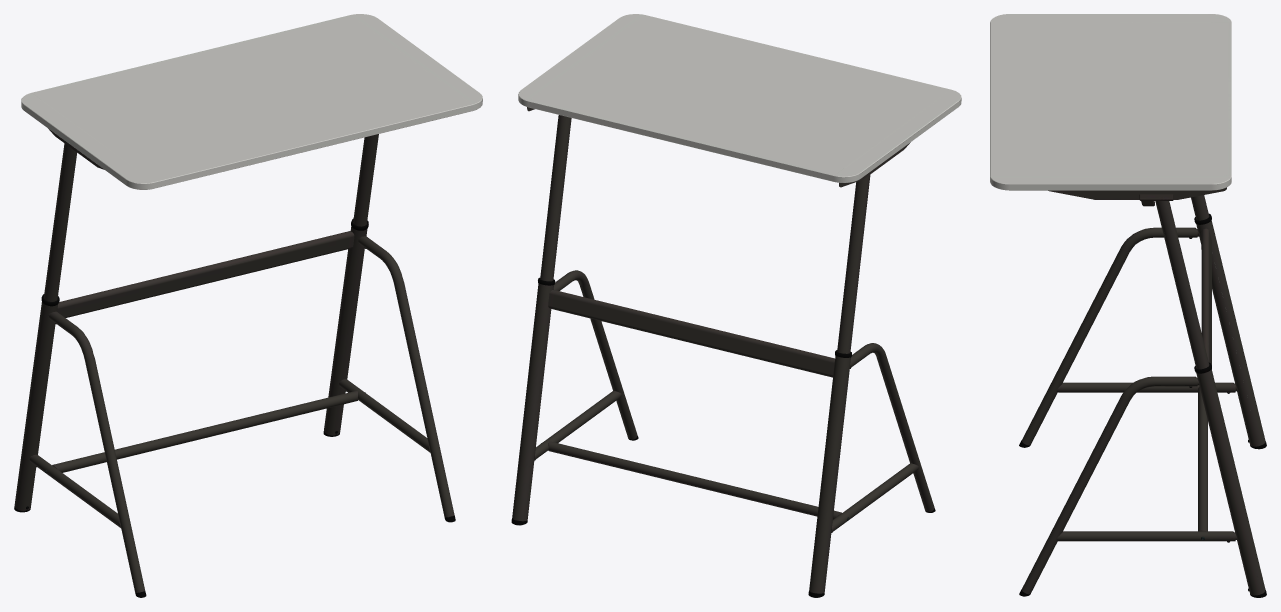
The model's file is GLADHÖJDEN desk.glb.
3 renders of one model, left to right at view 1: azimuth 30°, elevation 25°; view 2: azimuth 150°, elevation 25°; view 3: azimuth 270°, elevation 25°, orthographic. The views are drawn at different scales.
Visible parts, largest first — view 1: 20541610-GLADHÃƒâ€“JDEN001; view 2: 20541610-GLADHÃƒâ€“JDEN001; view 3: 20541610-GLADHÃƒâ€“JDEN001.
Part boxes in pixels (x1,y1,x2,y2): 20541610-GLADHÃƒâ€“JDEN001: [14, 14, 482, 597]; 20541610-GLADHÃƒâ€“JDEN001: [511, 14, 961, 597]; 20541610-GLADHÃƒâ€“JDEN001: [990, 14, 1266, 597].
Bounding box in the file's own units: 0.9998 × 1.16 × 0.6872.
1 material, 1 textured.
